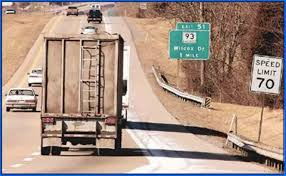speedLimit70: (250, 51, 281, 98)
